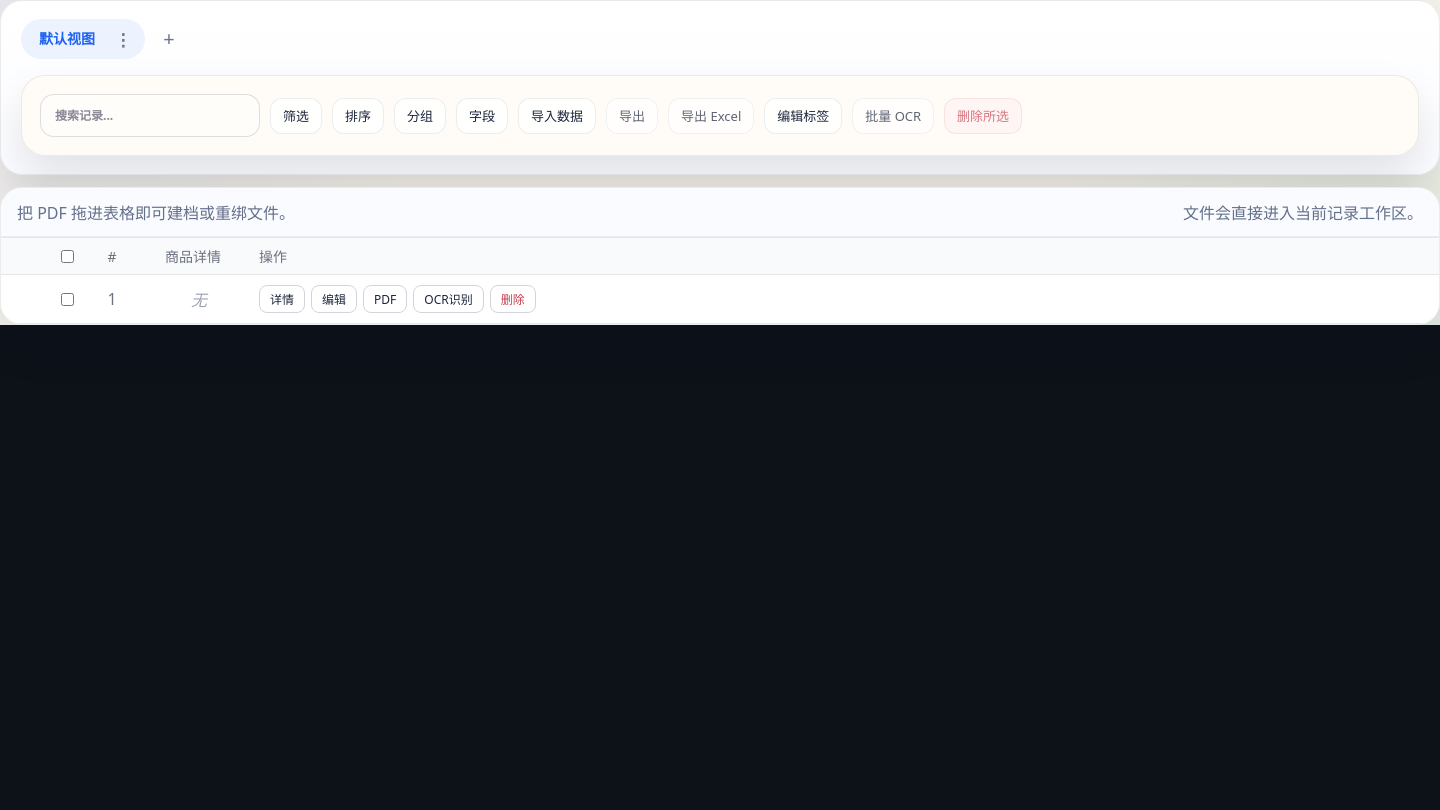
Scenario: InvoiceWorkspace filter dialog › uses the row-end X button to delete a rule while keeping add below the list
Click the button "筛选" at (296, 116), box x1=270 y1=98 x2=322 y2=134
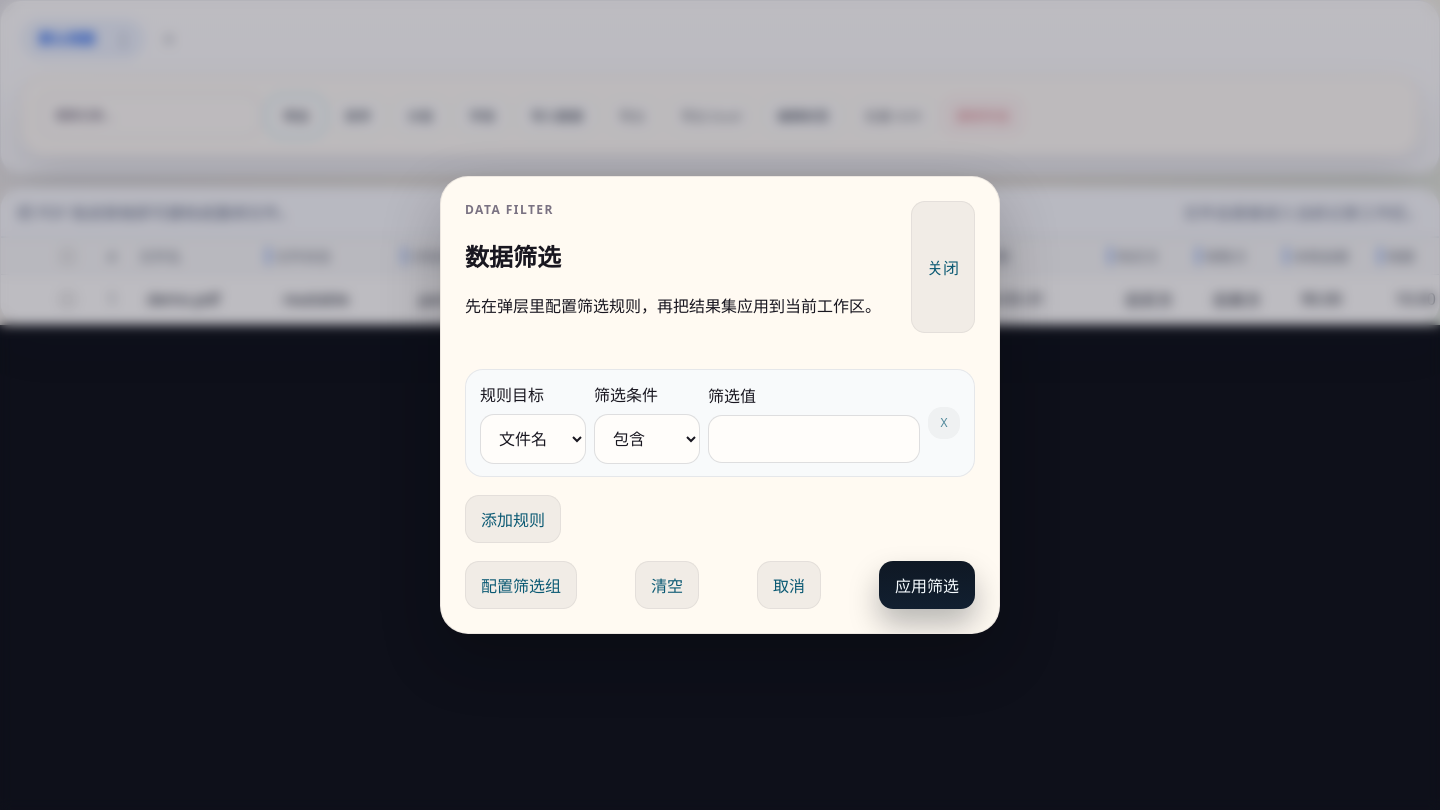
Click the button "添加规则" at (513, 519), box x1=465 y1=495 x2=561 y2=543
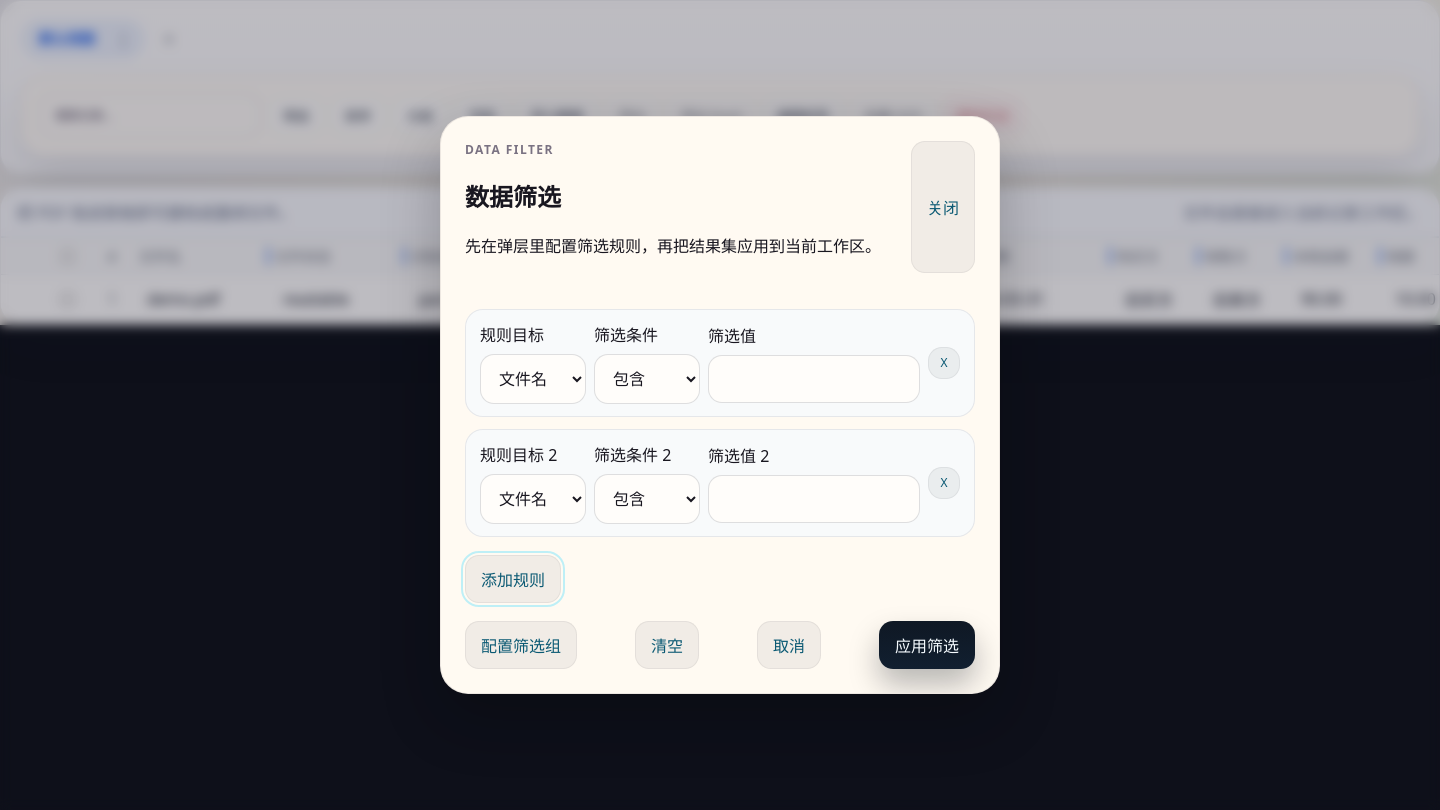
Result: the number of buttons "X" is 2
Click the button "X" below "筛选值 2" at (944, 483), box x1=928 y1=467 x2=960 y2=499
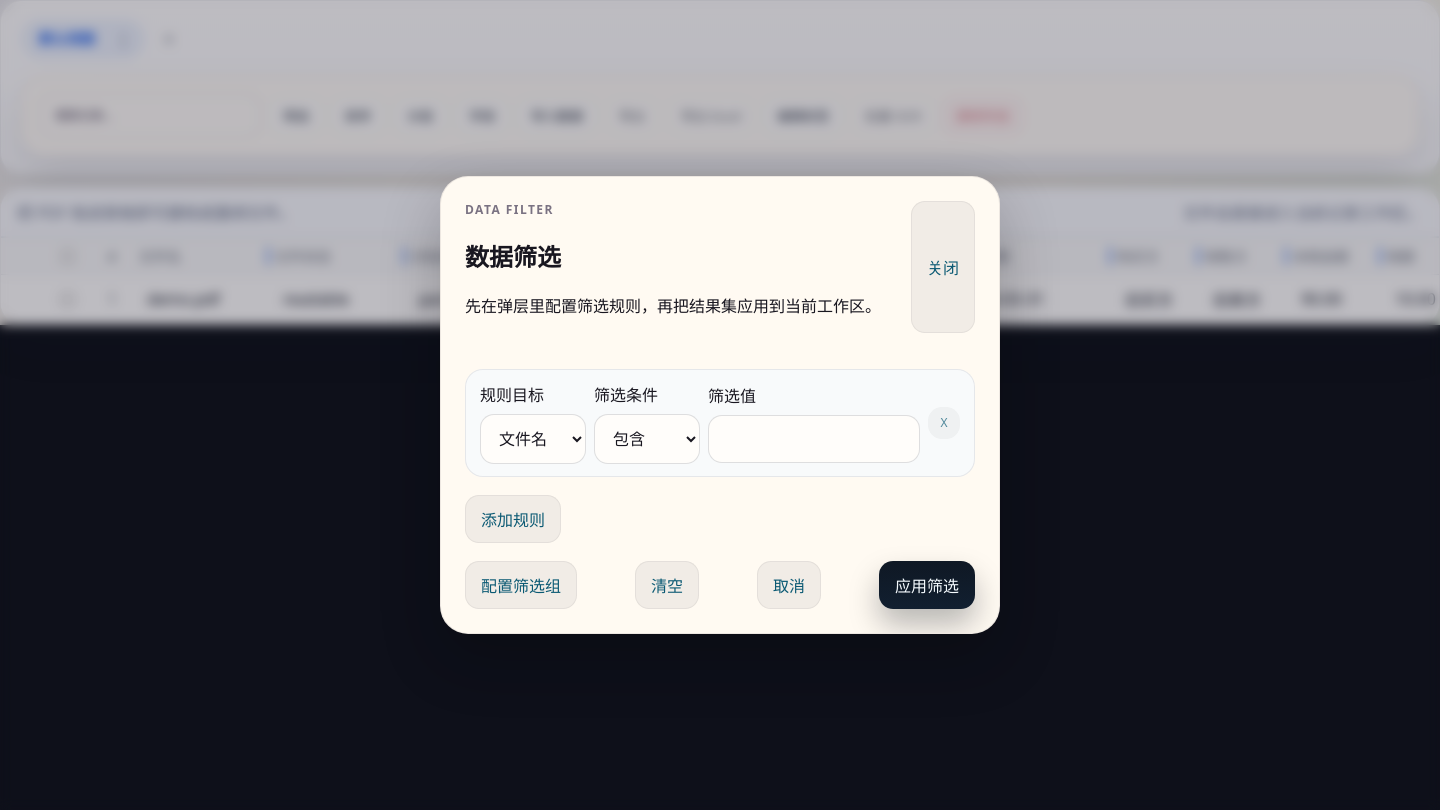
Result: the number of buttons "X" is 1 at x1=928 y1=407 x2=960 y2=439
Result: the number of buttons "添加规则" is 1 at x1=465 y1=495 x2=561 y2=543
